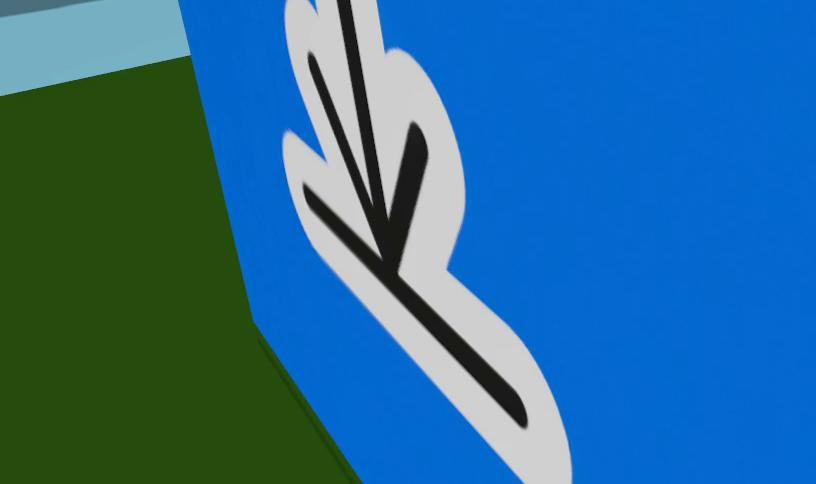KFS_REAL: (179, 0, 816, 483), (283, 0, 569, 483)
